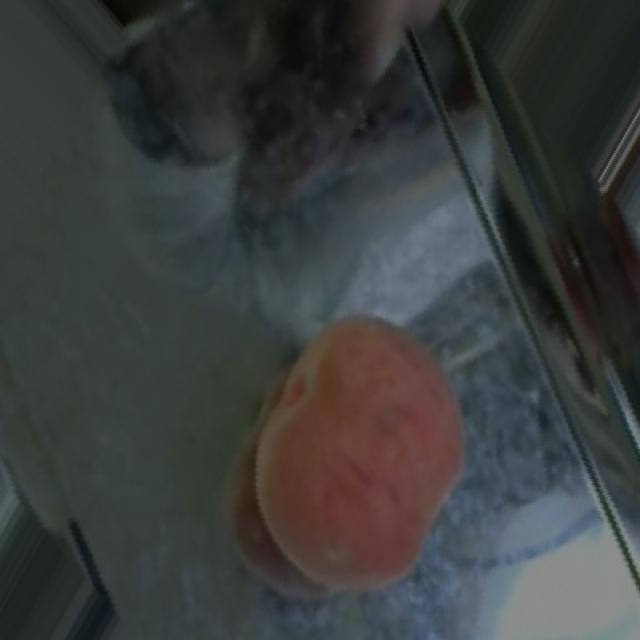Fruit: (208, 286, 492, 622)
